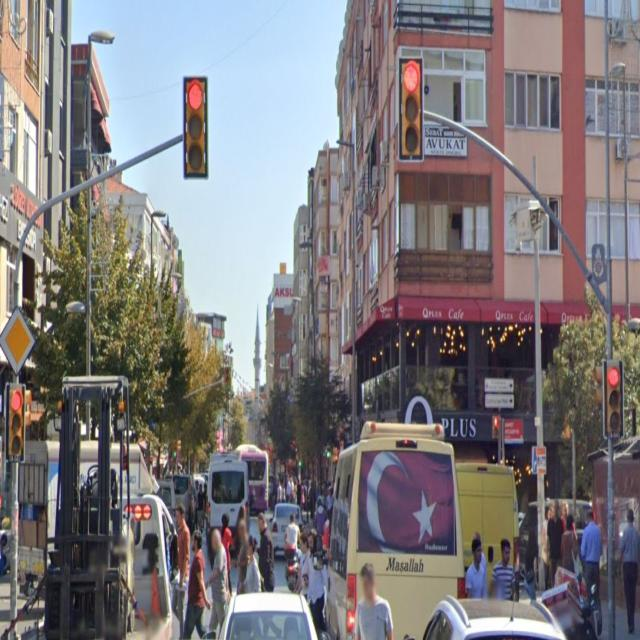kirmizi: (399, 57, 423, 161), (184, 76, 208, 179), (602, 360, 624, 440), (6, 383, 25, 463)
